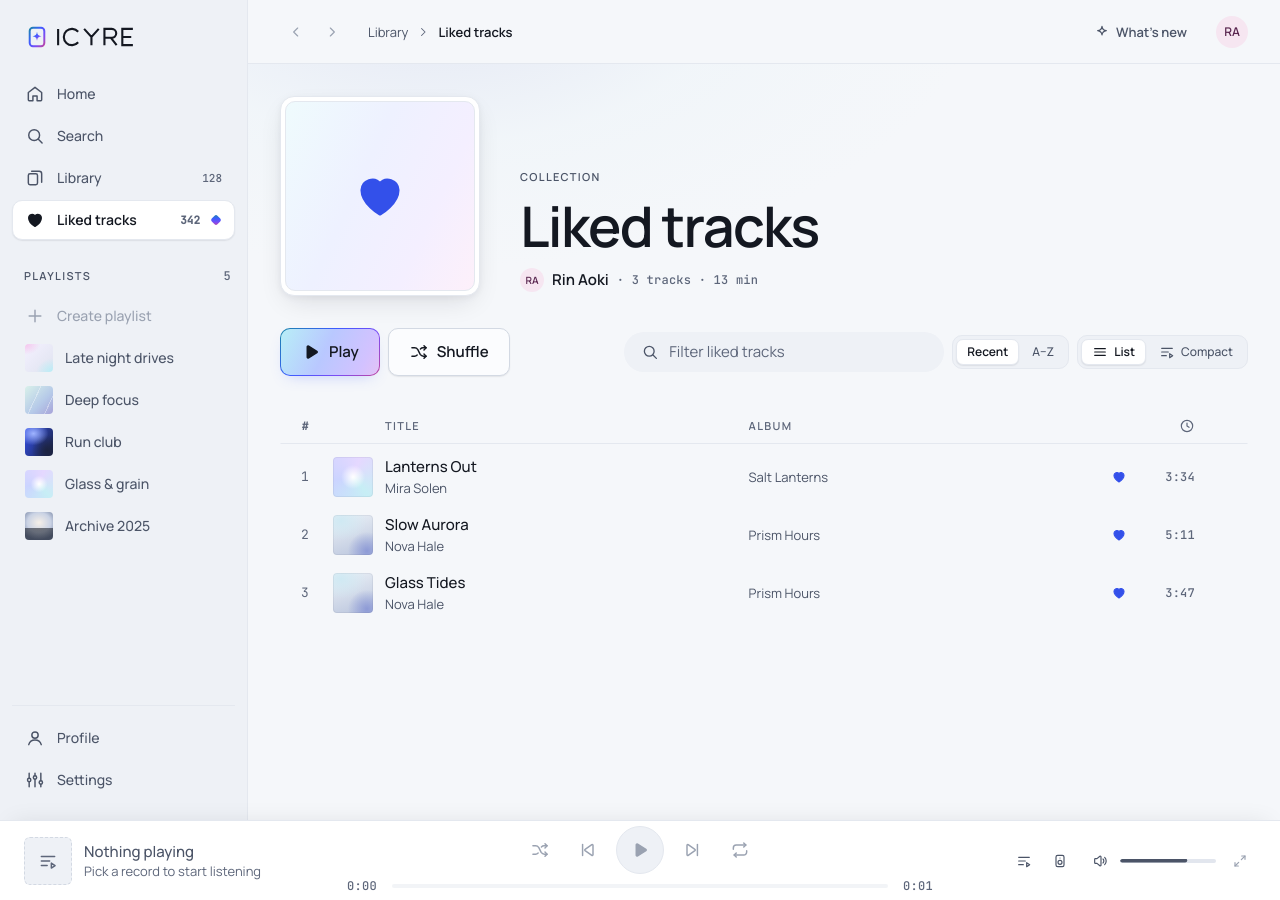
Scenario: Library screen › renders /liked route with hero, breadcrumb and unlikes a track
Expected: the heading "Liked tracks" is shown, [520, 187, 818, 264]
Expected: the link "Library" is shown, [368, 22, 408, 40]
Click the button named "Remove from Liked" in the row of "Glass Tides". click: (1119, 593)
box: [1103, 577, 1135, 609]
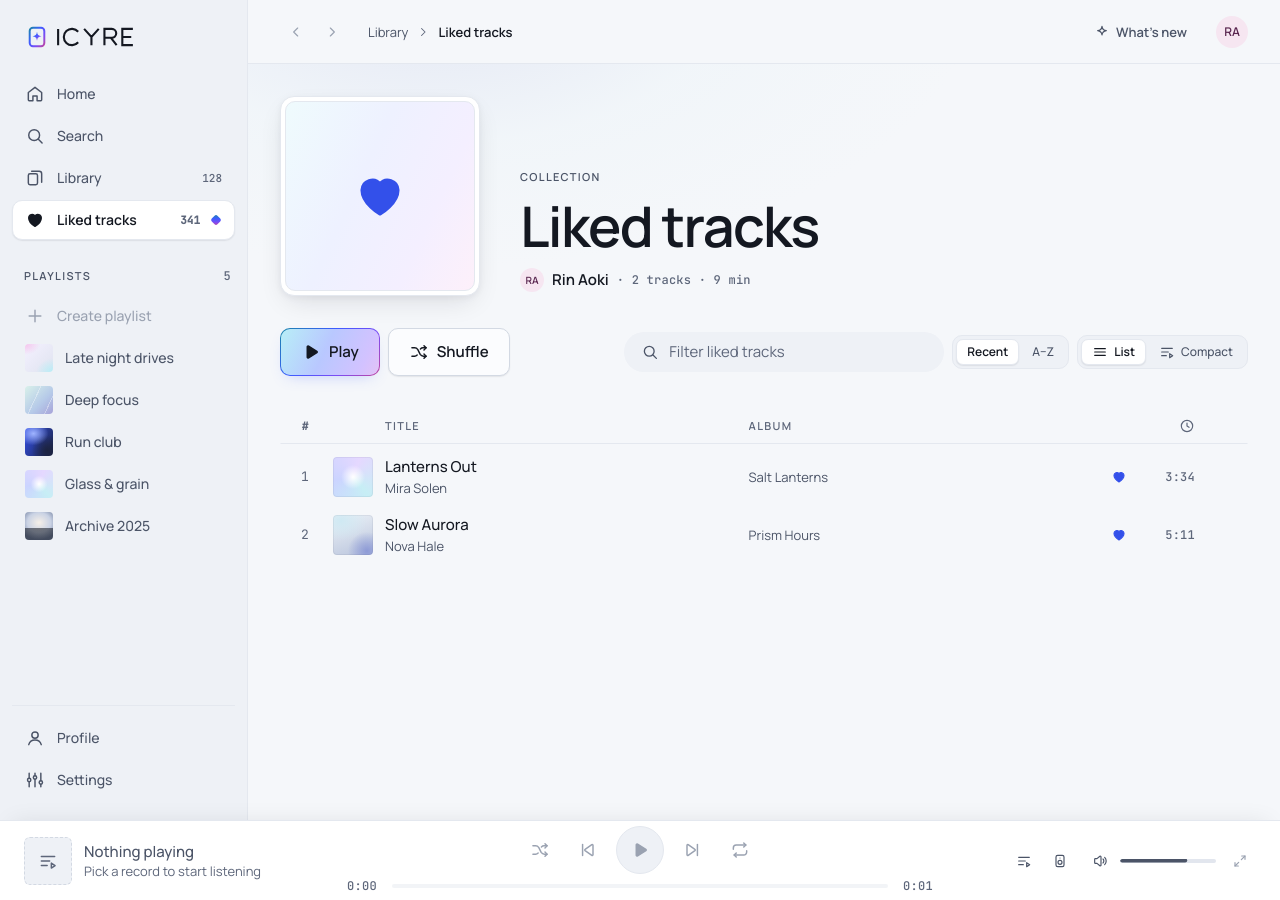
Now the text "Glass Tides" is gone
